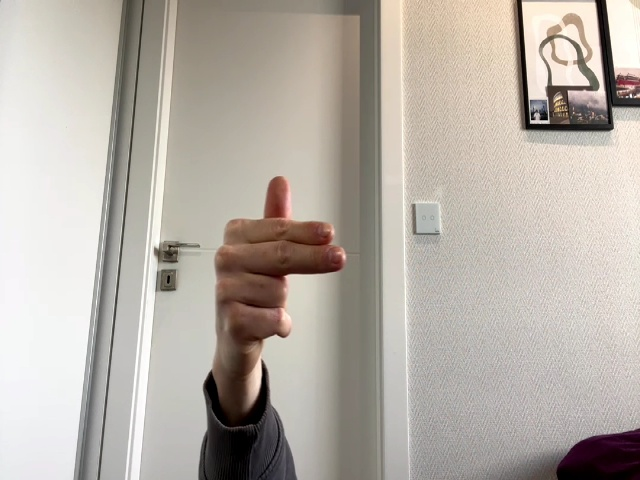N: (212, 176, 345, 371)
